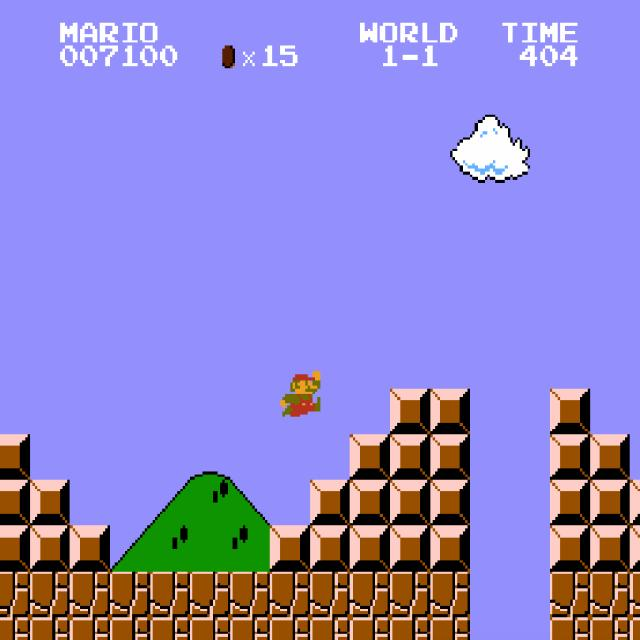hard_block: (30, 480, 70, 526), (310, 480, 350, 526), (350, 434, 390, 480), (350, 480, 390, 526), (390, 434, 430, 480), (390, 480, 430, 526), (430, 434, 470, 480), (430, 480, 470, 526), (550, 434, 590, 480), (550, 480, 590, 526), (590, 434, 630, 480), (590, 480, 630, 526), (30, 526, 70, 571), (70, 526, 110, 571), (270, 526, 310, 571), (310, 526, 350, 571), (350, 526, 390, 571), (390, 389, 430, 434), (390, 526, 430, 571), (430, 389, 470, 434), (430, 526, 470, 571), (550, 389, 590, 434), (550, 526, 590, 571), (590, 526, 630, 571), (0, 434, 30, 480), (0, 480, 30, 526), (0, 526, 30, 571), (629, 525, 640, 571), (629, 480, 640, 525)
little_mario: (277, 369, 320, 417)
undestructible_block: (30, 572, 70, 617), (70, 572, 110, 617), (110, 572, 150, 617), (150, 572, 190, 617), (190, 572, 230, 617), (230, 572, 270, 617), (270, 572, 310, 617), (310, 572, 350, 617), (350, 572, 390, 617), (390, 572, 430, 617), (430, 572, 470, 617), (550, 572, 590, 617), (590, 572, 630, 617), (0, 572, 30, 617), (30, 617, 70, 640), (70, 617, 110, 640), (110, 617, 150, 640), (150, 617, 190, 640), (190, 617, 230, 640), (230, 617, 270, 640), (270, 617, 310, 640), (310, 617, 350, 640), (350, 617, 390, 640), (390, 617, 430, 640), (430, 617, 470, 640), (550, 617, 590, 640), (590, 617, 630, 640), (0, 617, 30, 640), (629, 571, 640, 617), (629, 617, 640, 639)
